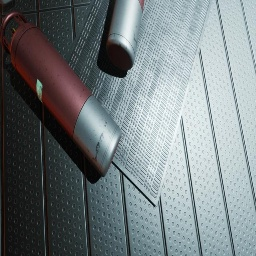NitrogenTank ,: (0, 10, 122, 177), (106, 0, 144, 70)
